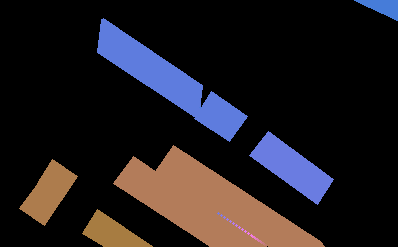parkingspot: (155, 145, 324, 247), (113, 156, 267, 247), (97, 18, 202, 119), (249, 131, 333, 204), (82, 209, 153, 247), (194, 91, 247, 141), (19, 181, 62, 225), (37, 159, 77, 200), (354, 0, 398, 20)
